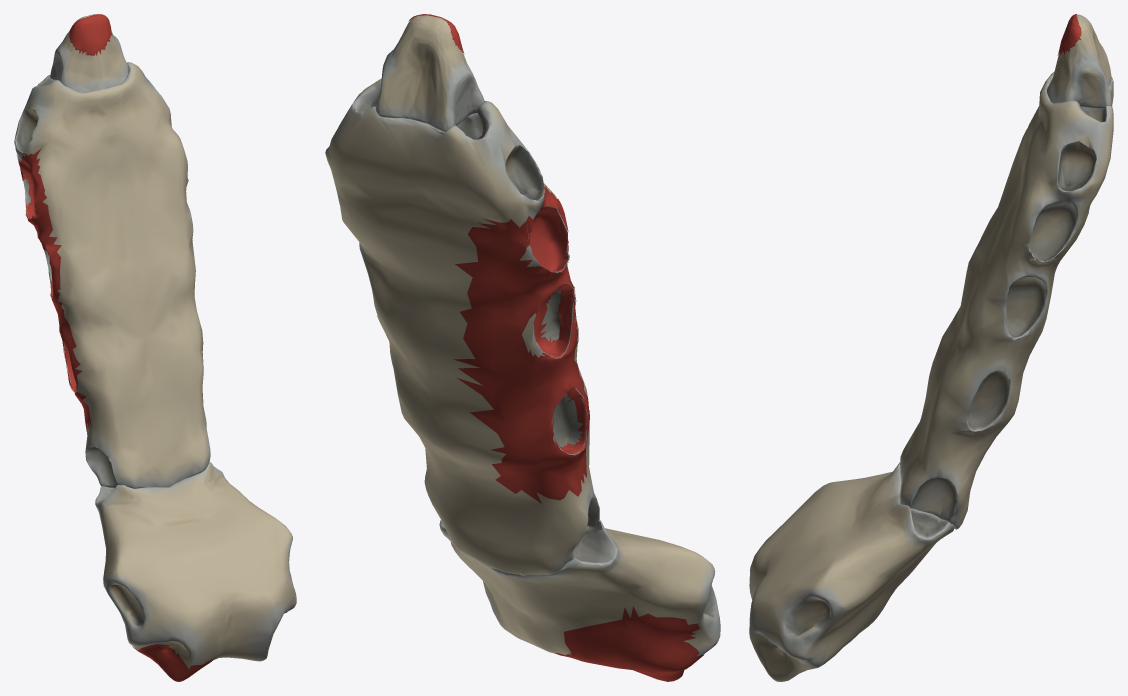
The model's file is sternum.glb.
3 views of the same model, side by side, from view 1: azimuth 30°, elevation 25°; view 2: azimuth 150°, elevation 25°; view 3: azimuth 270°, elevation 25° (orthographic). The views are drawn at different scales.
Visible parts, largest first — view 1: FJ3178, FJ3290, origo__corpus__FJ1464, FJ3153, sternum__manubrium-angulus, origo__xiphoideus__FJ3131, origo__manubrium-angulus__FJ1595; view 2: FJ3178, origo__corpus__FJ1464, sternum__corpus, sternum__manubrium-angulus, origo__manubrium-angulus__FJ1595, sternum__xiphoideus, FJ3153, FJ3290; view 3: FJ3178, FJ3290, sternum__manubrium-angulus, FJ3153, sternum__xiphoideus.
Part boxes in pixels (<box>): FJ3178: <box>14,62,210,488</box>; FJ3290: <box>96,462,296,669</box>; origo__corpus__FJ1464: <box>17,148,91,432</box>; FJ3153: <box>52,31,128,92</box>; sternum__manubrium-angulus: <box>95,462,275,650</box>; origo__xiphoideus__FJ3131: <box>69,14,111,55</box>; origo__manubrium-angulus__FJ1595: <box>132,643,214,681</box>; FJ3178: <box>325,78,599,575</box>; origo__corpus__FJ1464: <box>453,186,589,503</box>; sternum__corpus: <box>390,216,587,463</box>; sternum__manubrium-angulus: <box>439,519,719,655</box>; origo__manubrium-angulus__FJ1595: <box>554,606,704,681</box>; sternum__xiphoideus: <box>376,15,483,131</box>; FJ3153: <box>385,15,484,124</box>; FJ3290: <box>441,520,720,648</box>; FJ3178: <box>900,71,1113,529</box>; FJ3290: <box>749,462,946,681</box>; sternum__manubrium-angulus: <box>782,464,954,681</box>; FJ3153: <box>1047,34,1110,106</box>; sternum__xiphoideus: <box>1069,14,1111,108</box>.
Bounding box in the file's own units: 54.9 × 162 × 83.03.
